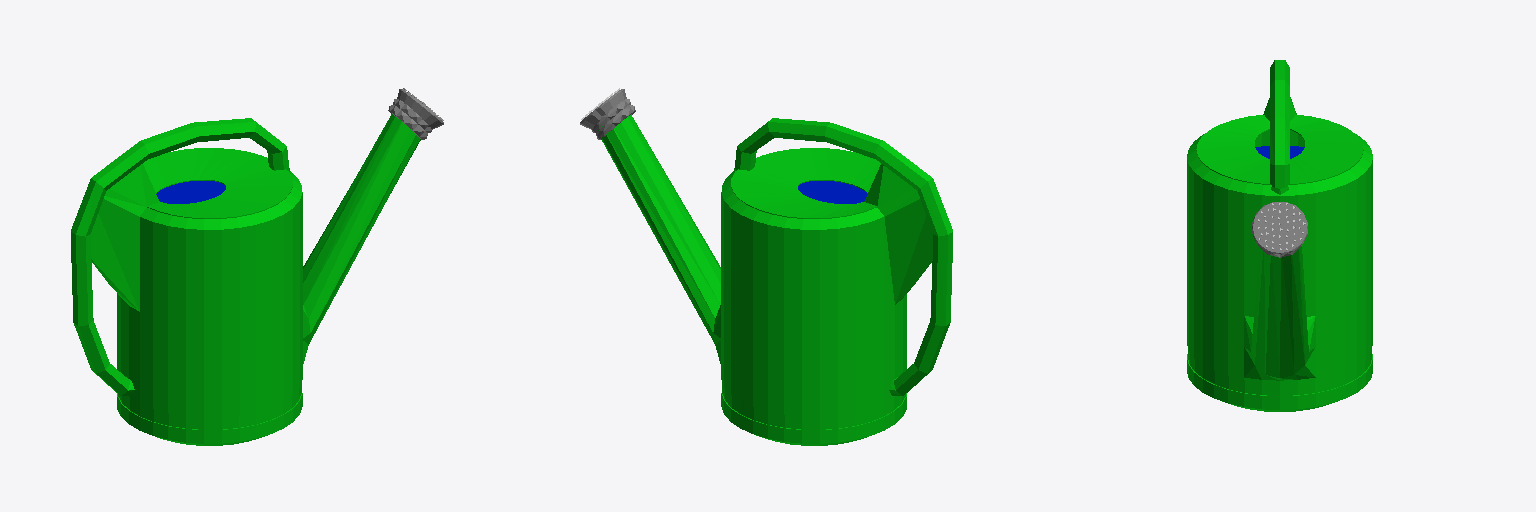
Rendered from watering_can.obj.
The picture shows the model from 3 angles: view 1: azimuth 30°, elevation 25°; view 2: azimuth 150°, elevation 25°; view 3: azimuth 270°, elevation 25°; orthographic projection.
Visible parts, largest first — view 1: Cylinder.002, Plane, Cylinder.001, Circle, Cone; view 2: Cylinder.002, Plane, Cylinder.001, Circle, Cone; view 3: Cylinder.002, Plane, Cylinder.001, Cone.
Boxes of the visible parts, x1=… form: Cylinder.002: x1=91, y1=114, x2=420, y2=445; Plane: x1=71, y1=118, x2=289, y2=395; Cylinder.001: x1=118, y1=383, x2=301, y2=429; Circle: x1=156, y1=181, x2=225, y2=203; Cone: x1=397, y1=89, x2=443, y2=129; Cylinder.002: x1=598, y1=115, x2=932, y2=445; Plane: x1=734, y1=118, x2=952, y2=395; Cylinder.001: x1=722, y1=383, x2=905, y2=429; Circle: x1=798, y1=181, x2=867, y2=203; Cone: x1=580, y1=89, x2=626, y2=129; Cylinder.002: x1=1187, y1=97, x2=1372, y2=411; Plane: x1=1270, y1=60, x2=1289, y2=194; Cylinder.001: x1=1188, y1=351, x2=1371, y2=395; Cone: x1=1252, y1=202, x2=1307, y2=253.
Bounding box in the file's own units: 1.25 × 0.9524 × 0.5492.